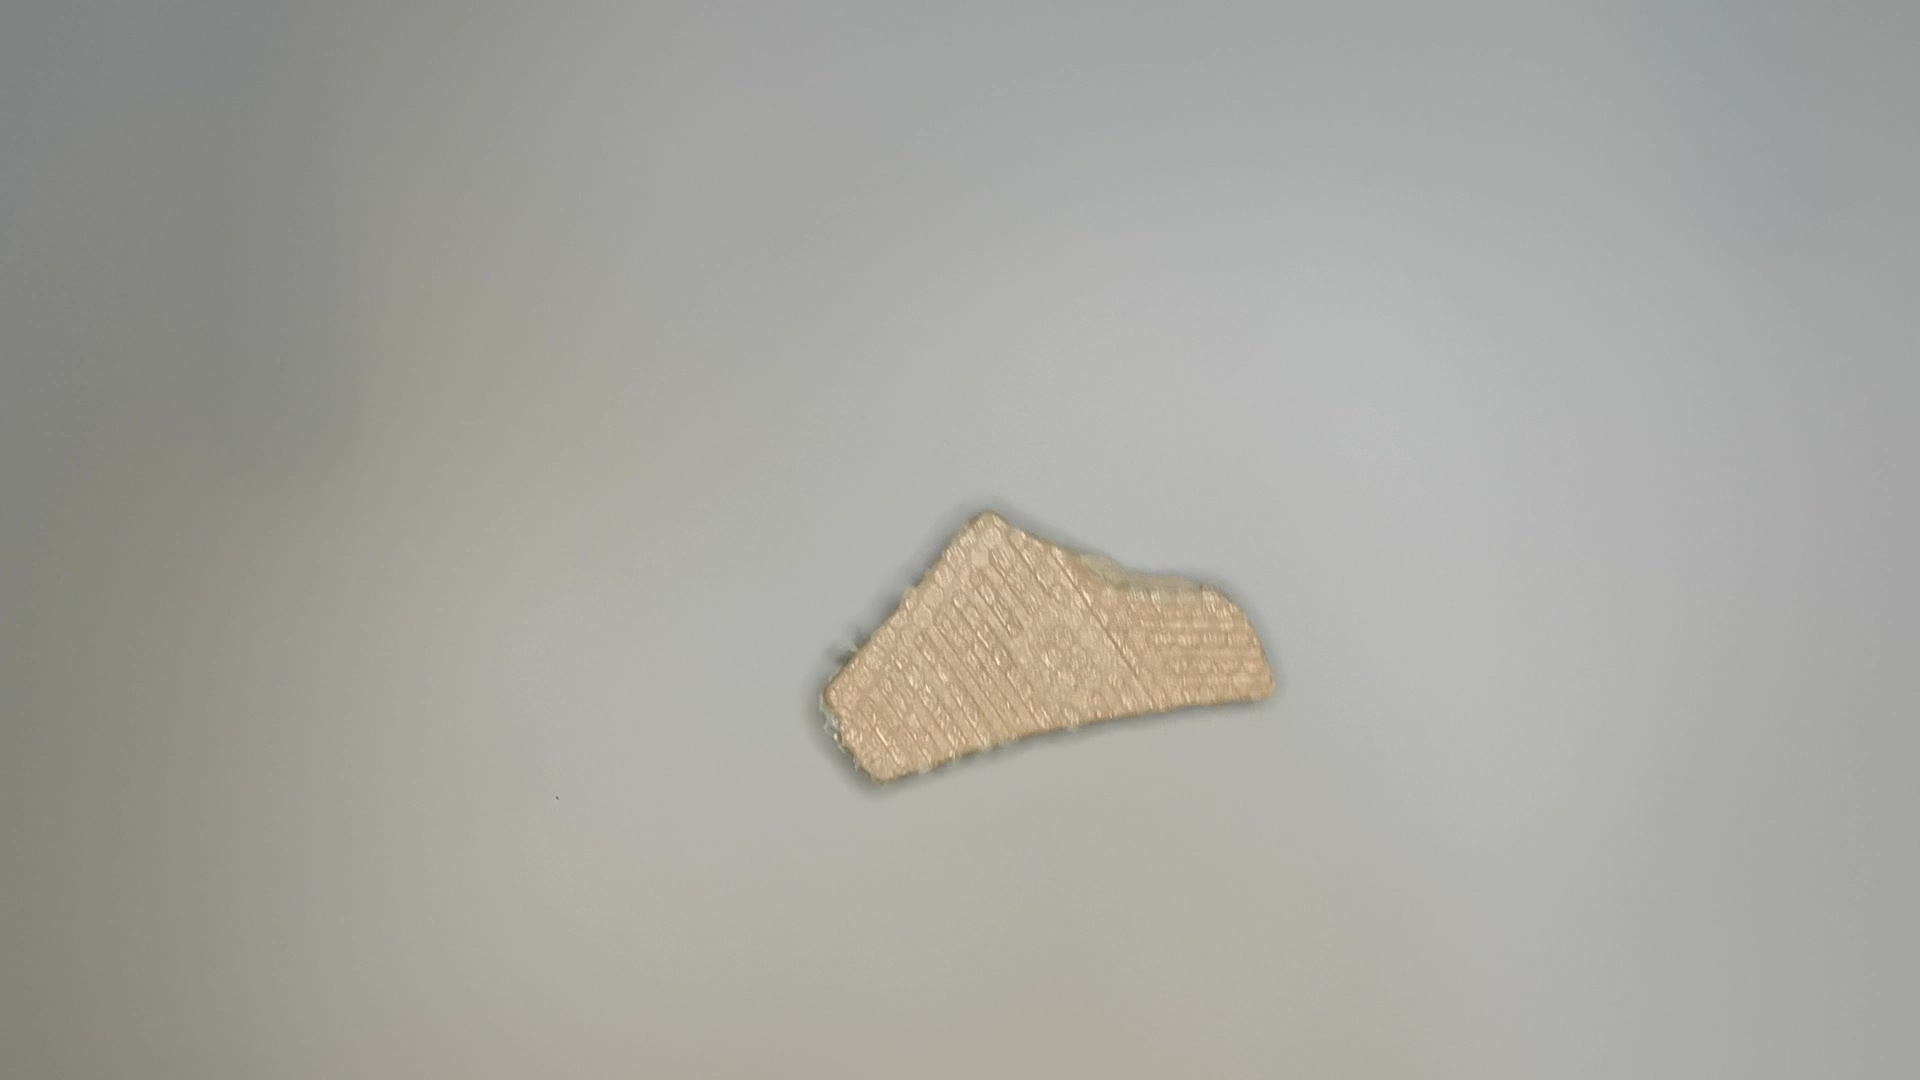ceramic: (800, 498, 1295, 793)
